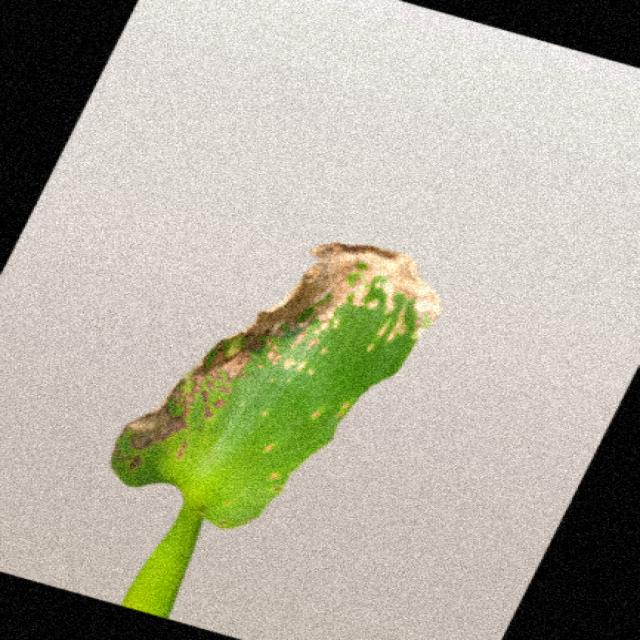daun berpenyakit bercak: (112, 244, 441, 616)
